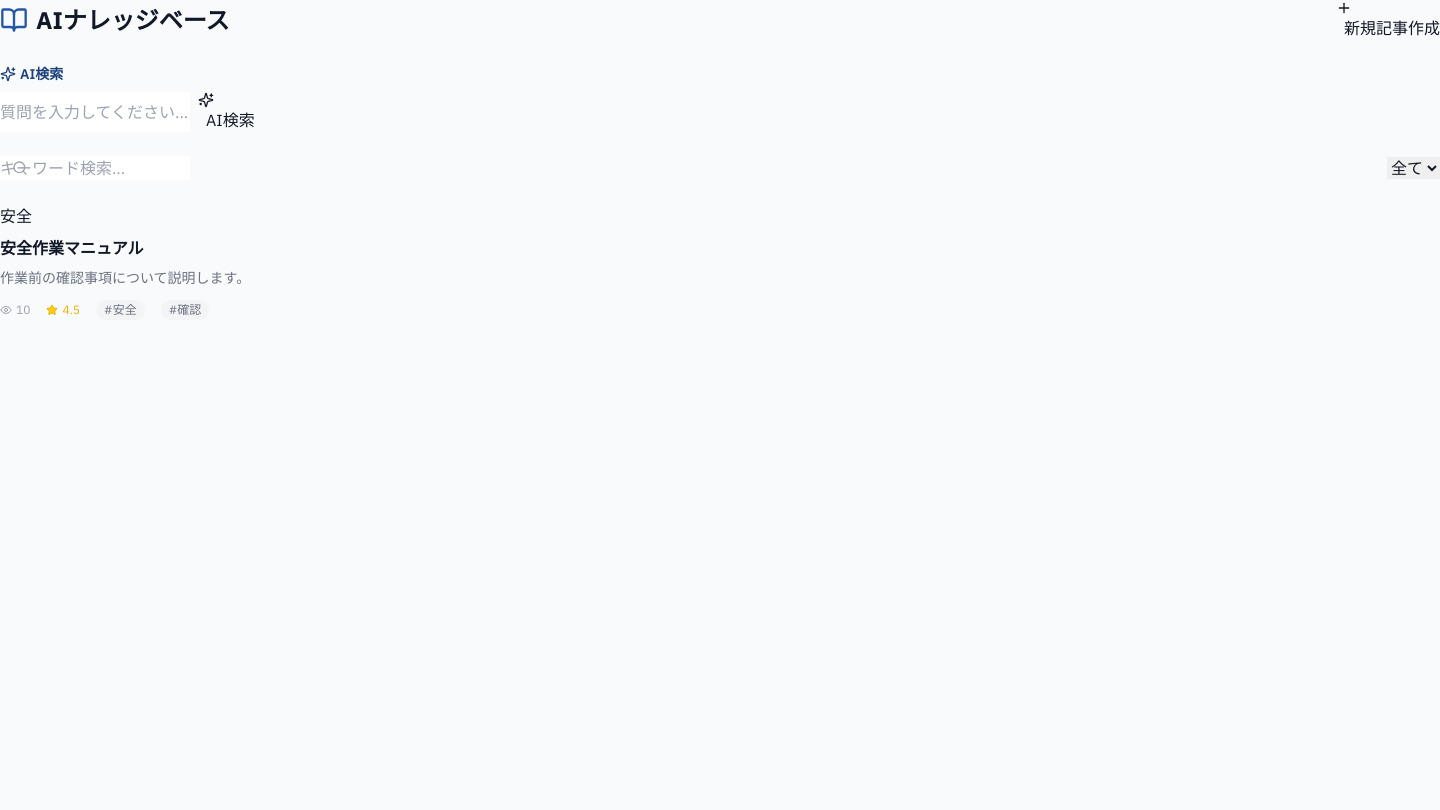
KnowledgePage › 詳細モーダルに編集ボタンと削除ボタンが存在する
Click the heading "安全作業マニュアル".
click(72, 248)  # box top-left (0, 238), bottom-right (144, 258)
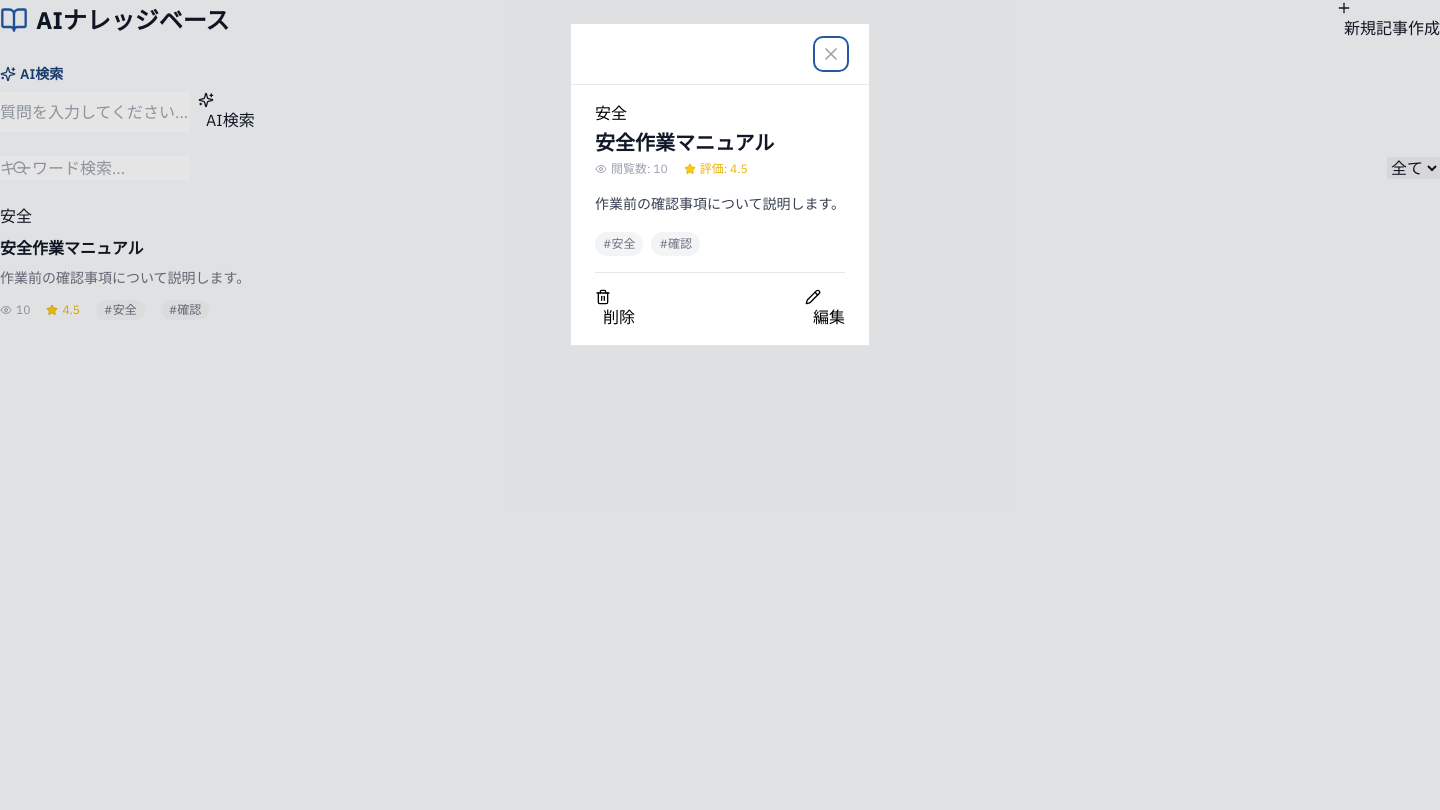
Now the button "編集" is shown, box top-left (805, 289), bottom-right (845, 329)
Now the button "削除" is shown, box top-left (595, 289), bottom-right (635, 329)
